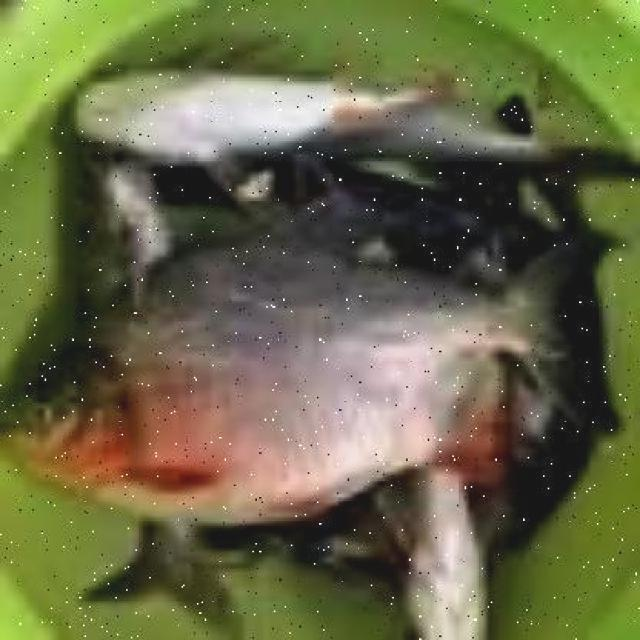ikan-pacu: (10, 243, 532, 523)
